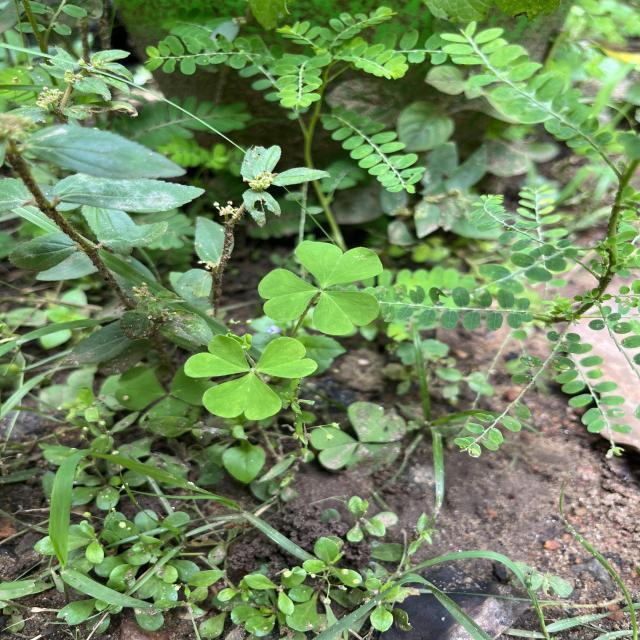Oxalis corniculata: (257, 238, 386, 336), (182, 333, 320, 422)
